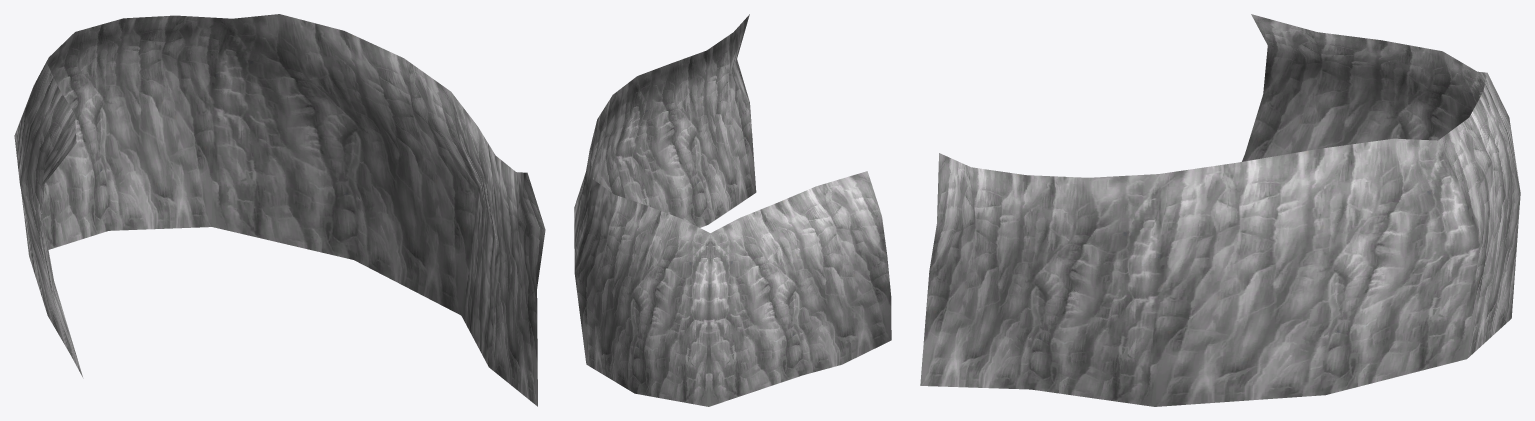
The model's file is SWORDLIGHT20_PS-AREA03_198.fbx.
3 views of the same model, side by side, from view 1: azimuth 30°, elevation 25°; view 2: azimuth 150°, elevation 25°; view 3: azimuth 270°, elevation 25° (orthographic). The views are drawn at different scales.
Visible parts, largest first — view 1: SWORDLIGHT20_PS-AREA03_198; view 2: SWORDLIGHT20_PS-AREA03_198; view 3: SWORDLIGHT20_PS-AREA03_198.
Boxes of the visible parts, box(x1,y1,x2,y2) form: SWORDLIGHT20_PS-AREA03_198: box(14, 14, 545, 406); SWORDLIGHT20_PS-AREA03_198: box(574, 14, 891, 406); SWORDLIGHT20_PS-AREA03_198: box(920, 14, 1520, 406).
Bounding box in the file's own units: 90851 × 54515 × 119524.
Materials: 1 (1 with a texture image).
